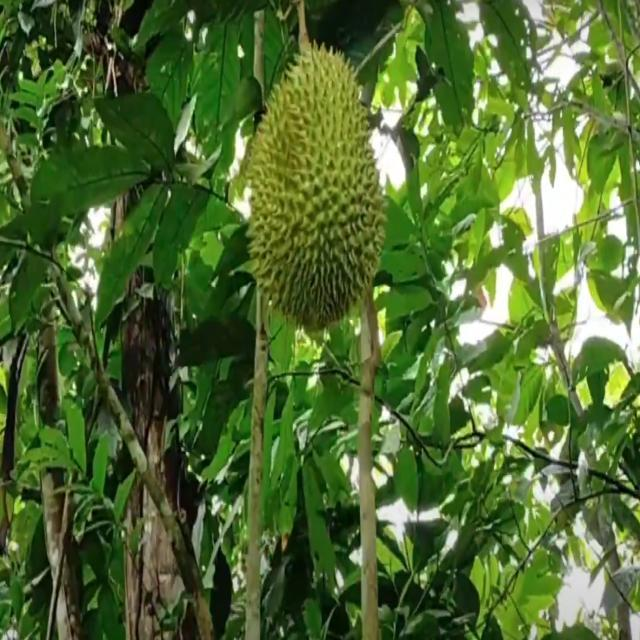immature: (243, 35, 384, 335)
